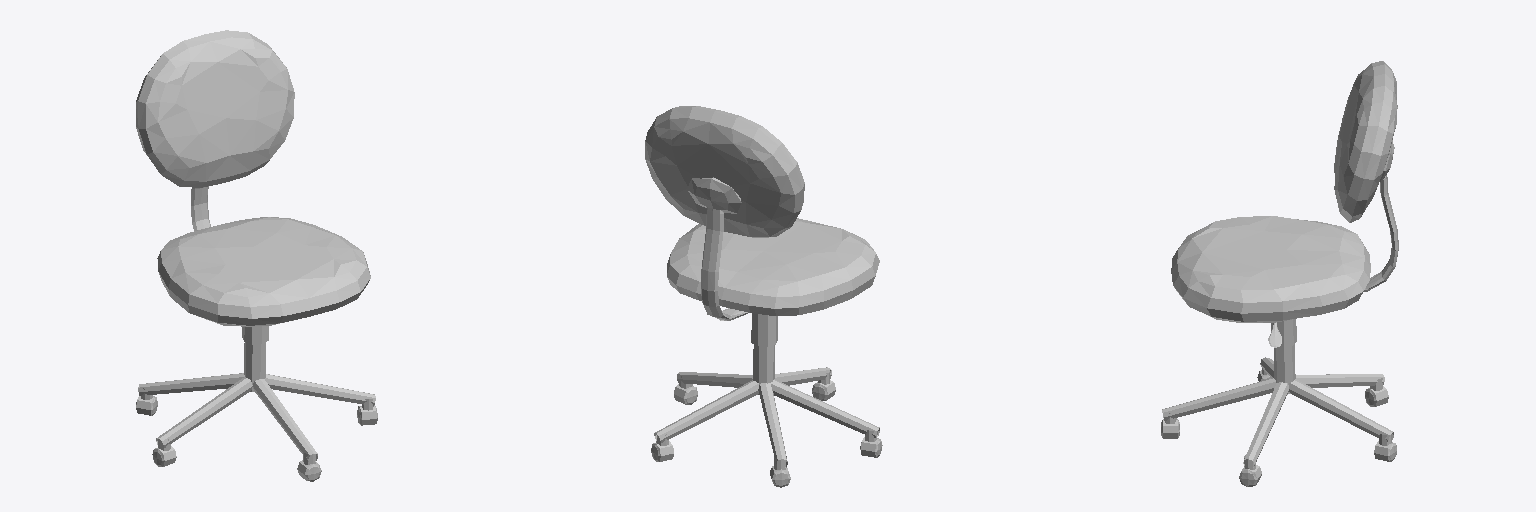
File: chair.obj
3 renders of one model, left to right at view 1: azimuth 30°, elevation 25°; view 2: azimuth 150°, elevation 25°; view 3: azimuth 270°, elevation 25°, orthographic.
Visible parts, largest first — view 1: chair.001; view 2: chair.001; view 3: chair.001.
Boxes of the visible parts, box(x1,y1,x2,y2) form: chair.001: box(136, 30, 377, 481); chair.001: box(645, 106, 882, 487); chair.001: box(1161, 61, 1398, 486).
Size of the model in its own units: 4.81 by 7.9 by 4.67.